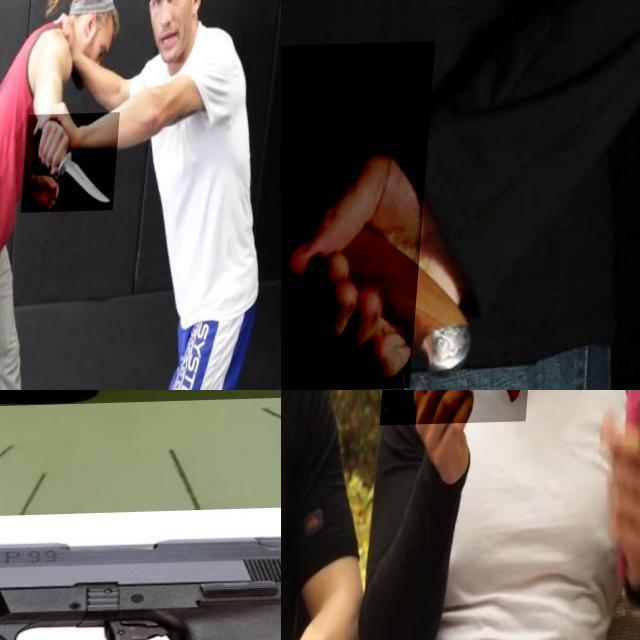-: (281, 43, 437, 390), (385, 390, 542, 480), (26, 114, 124, 214)
gun-knife-thesis - v11 Yolov5 augmented: (0, 526, 281, 640), (0, 390, 281, 454)
